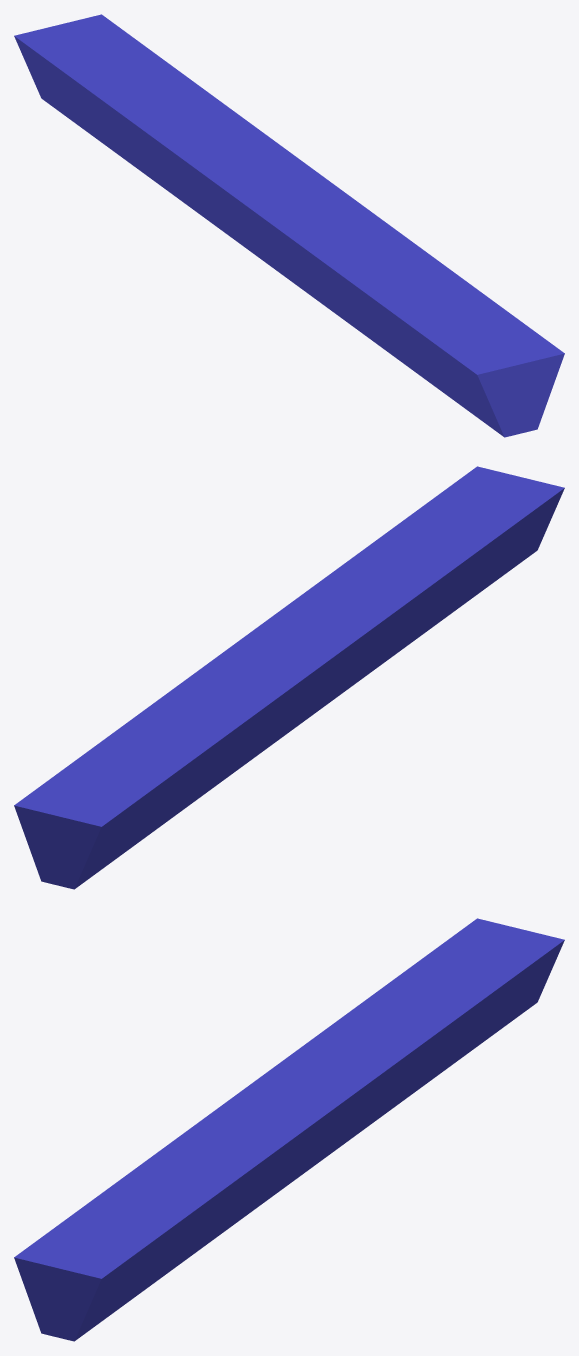
The model's file is NarrowBeam.fbx.
3 views of the same model, one above another, from view 1: azimuth 30°, elevation 25°; view 2: azimuth 150°, elevation 25°; view 3: azimuth 330°, elevation 25° (orthographic).
Parts seen in each view (by area): view 1: shortcut beam.004; view 2: shortcut beam.004; view 3: shortcut beam.004.
Part boxes in pixels (x1,y1,x2,y2): shortcut beam.004: [14, 14, 564, 437]; shortcut beam.004: [14, 466, 564, 889]; shortcut beam.004: [14, 918, 564, 1341].
Bounding box in the file's own units: 46.62 × 35.22 × 426.
